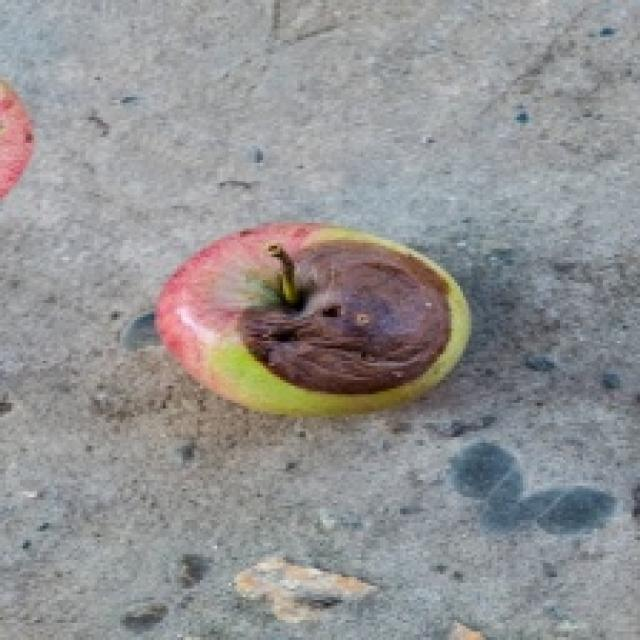rotten_apple: (160, 224, 470, 406)
